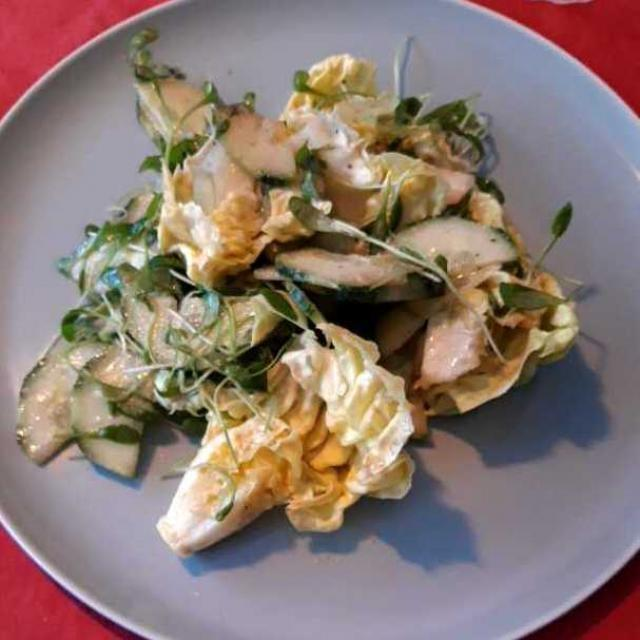salad: (10, 58, 594, 562), (31, 59, 567, 553)
